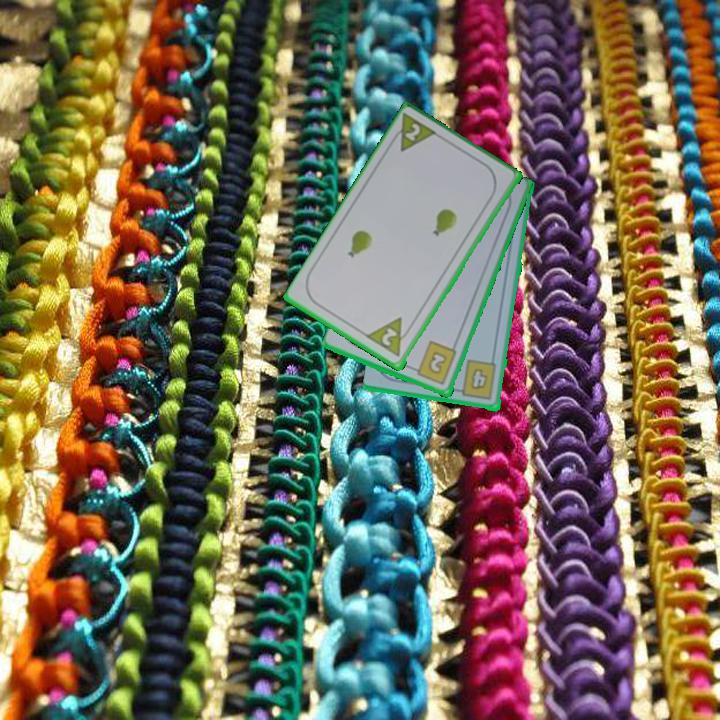2b: (408, 338, 459, 388)
2p: (386, 110, 441, 155), (364, 314, 416, 361)
4b: (453, 357, 500, 403)
